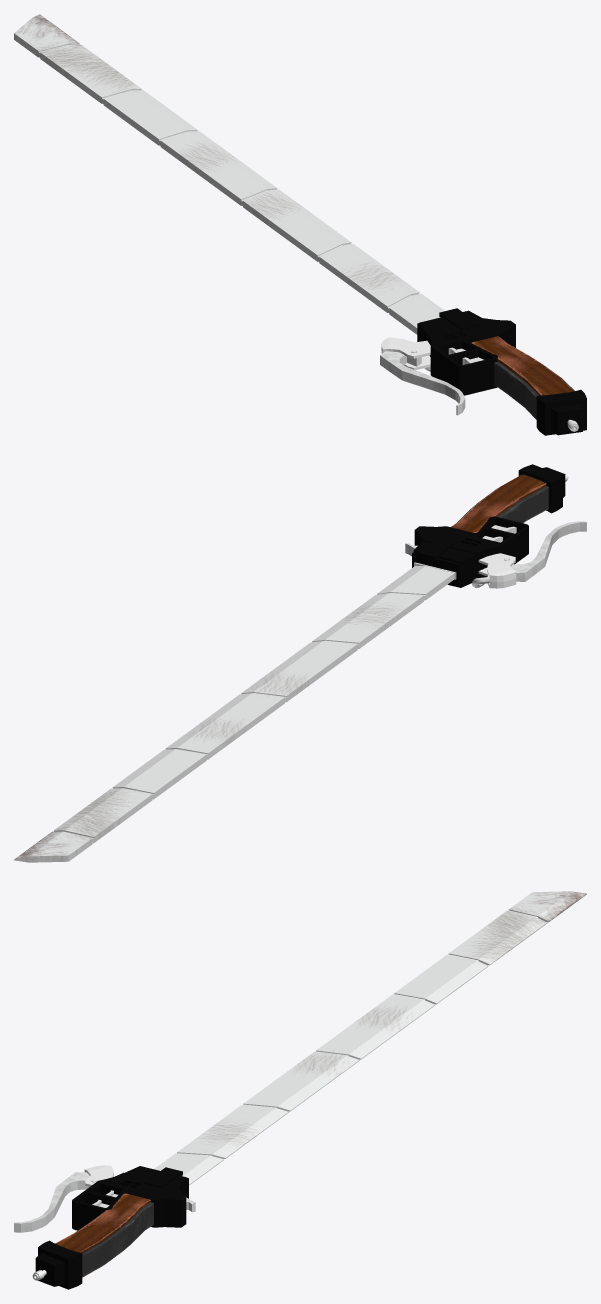
3 views of the same model, one above another, from view 1: azimuth 30°, elevation 25°; view 2: azimuth 150°, elevation 25°; view 3: azimuth 330°, elevation 25° (orthographic). The views are drawn at different scales.
Visible parts, largest first — view 1: Handle_Base_02_lp; view 2: Handle_Base_02_lp; view 3: Handle_Base_02_lp.
Part boxes in pixels (<box>): Handle_Base_02_lp: <box>14,14,586,435</box>; Handle_Base_02_lp: <box>14,464,586,862</box>; Handle_Base_02_lp: <box>14,891,586,1289</box>.
Bounding box in the file's own units: 263 × 75.01 × 2007.
Materials: 1 (1 with a texture image).
